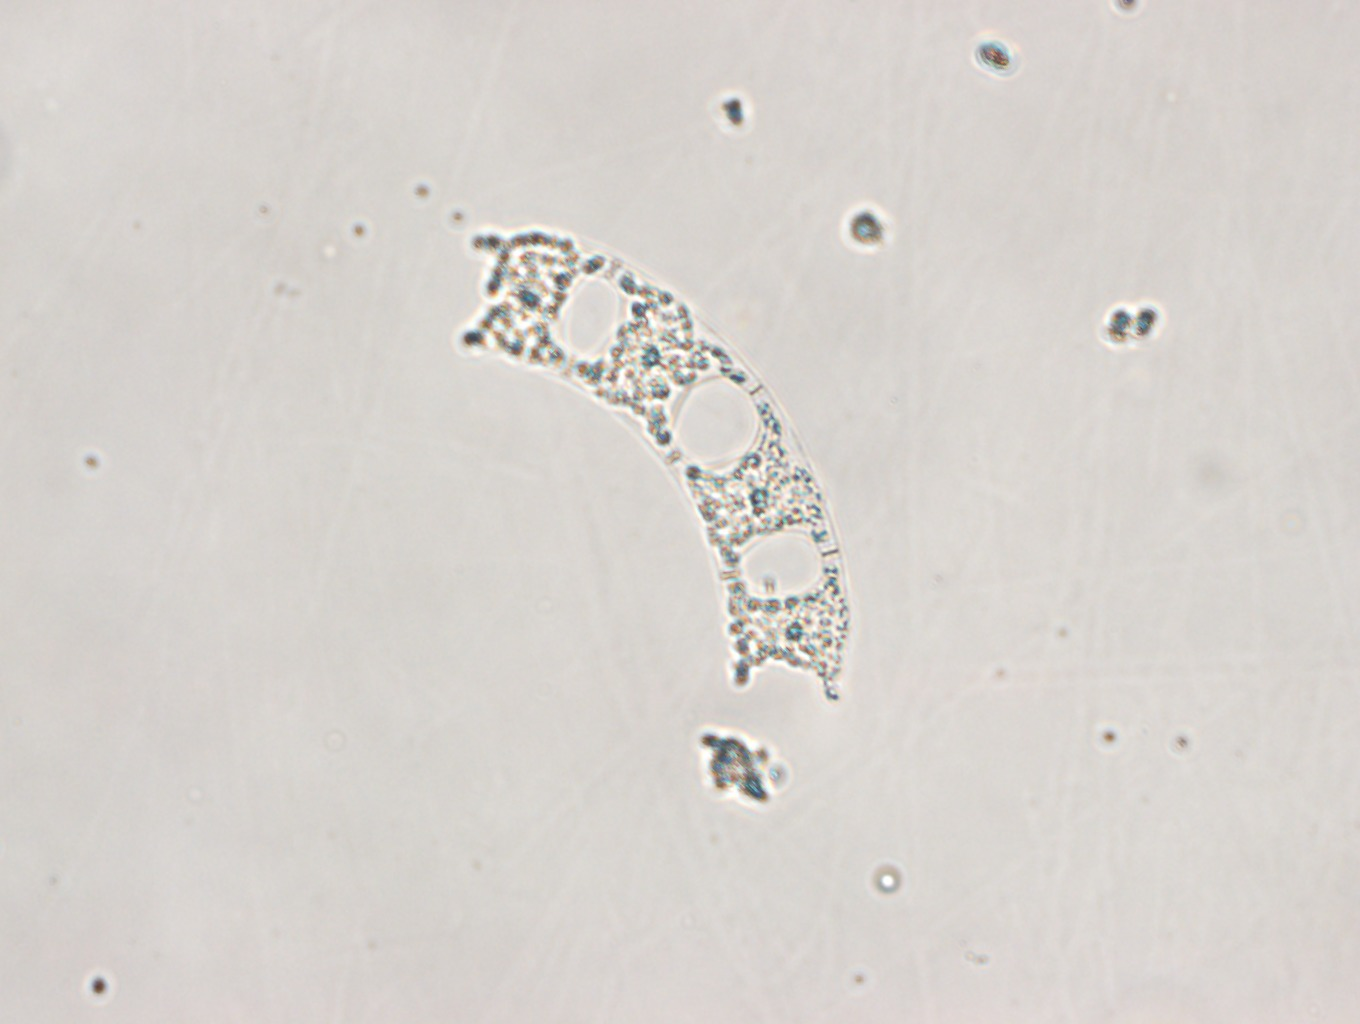eucampia: (456, 227, 853, 701)
